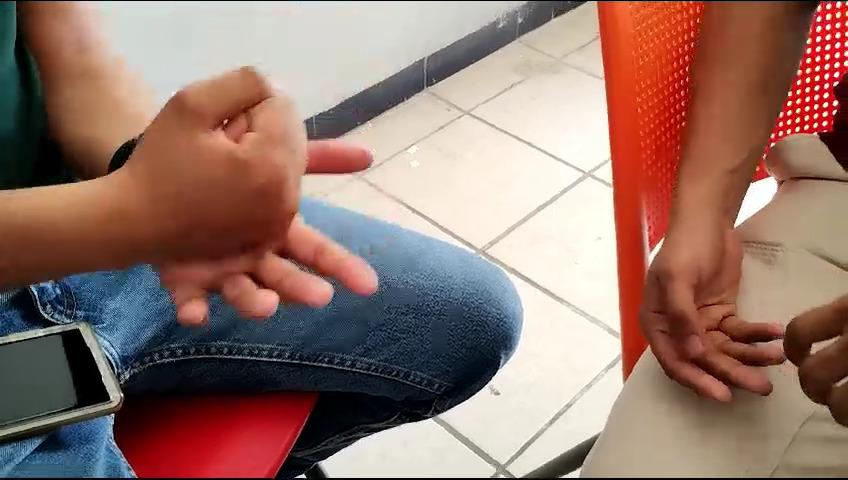Stone: (122, 57, 329, 277)
